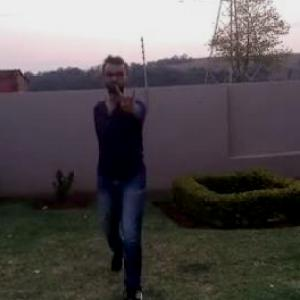takeoff-hand: (113, 84, 143, 125)
